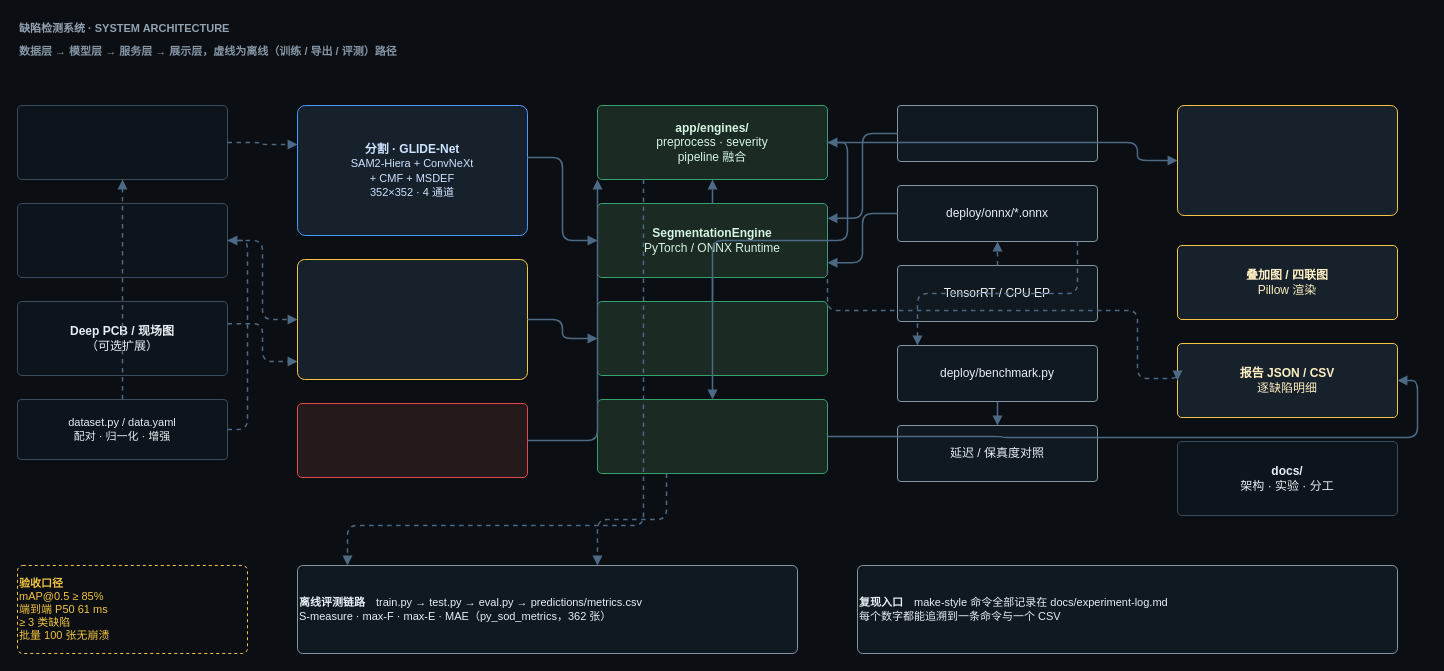
The diagram is 1444 pixels wide and 671 high, and some of its shapes have lost their labels. The shapes that lost their labels are listed below. From the top down, each one's box as (x1, y1, x2, y2) in pixels, then its label:
(16, 104, 228, 180): NEU RSDDS-AUG 1 862 张 RGB-D 训练 1 500 / 测试 362
(896, 104, 1098, 162): ckpt/*.pth
(1176, 104, 1398, 216): Gradio 工作站 单图检测 批量检测 指标看板
(16, 202, 228, 278): NEU-DET 1 797 张 · 6 类 边界框标注
(296, 258, 528, 380): 检测 · YOLOv8m NEU-DET 六类 768×768 · mAP@0.5 ≥ 0.85 目标
(596, 300, 828, 376): DetectionEngine Ultralytics YOLO
(296, 402, 528, 478): 分级 · 规则引擎 面积 × 细长 × 置信
(596, 398, 828, 474): app/batch.py 文件夹级流水线 · CSV
